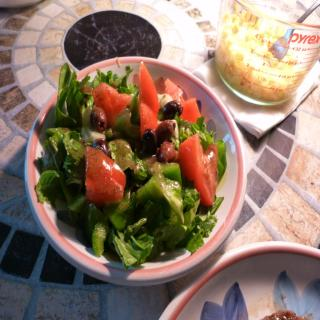tomato: (177, 131, 217, 203), (83, 145, 127, 204), (136, 60, 160, 140), (92, 82, 133, 126), (166, 77, 202, 123)
